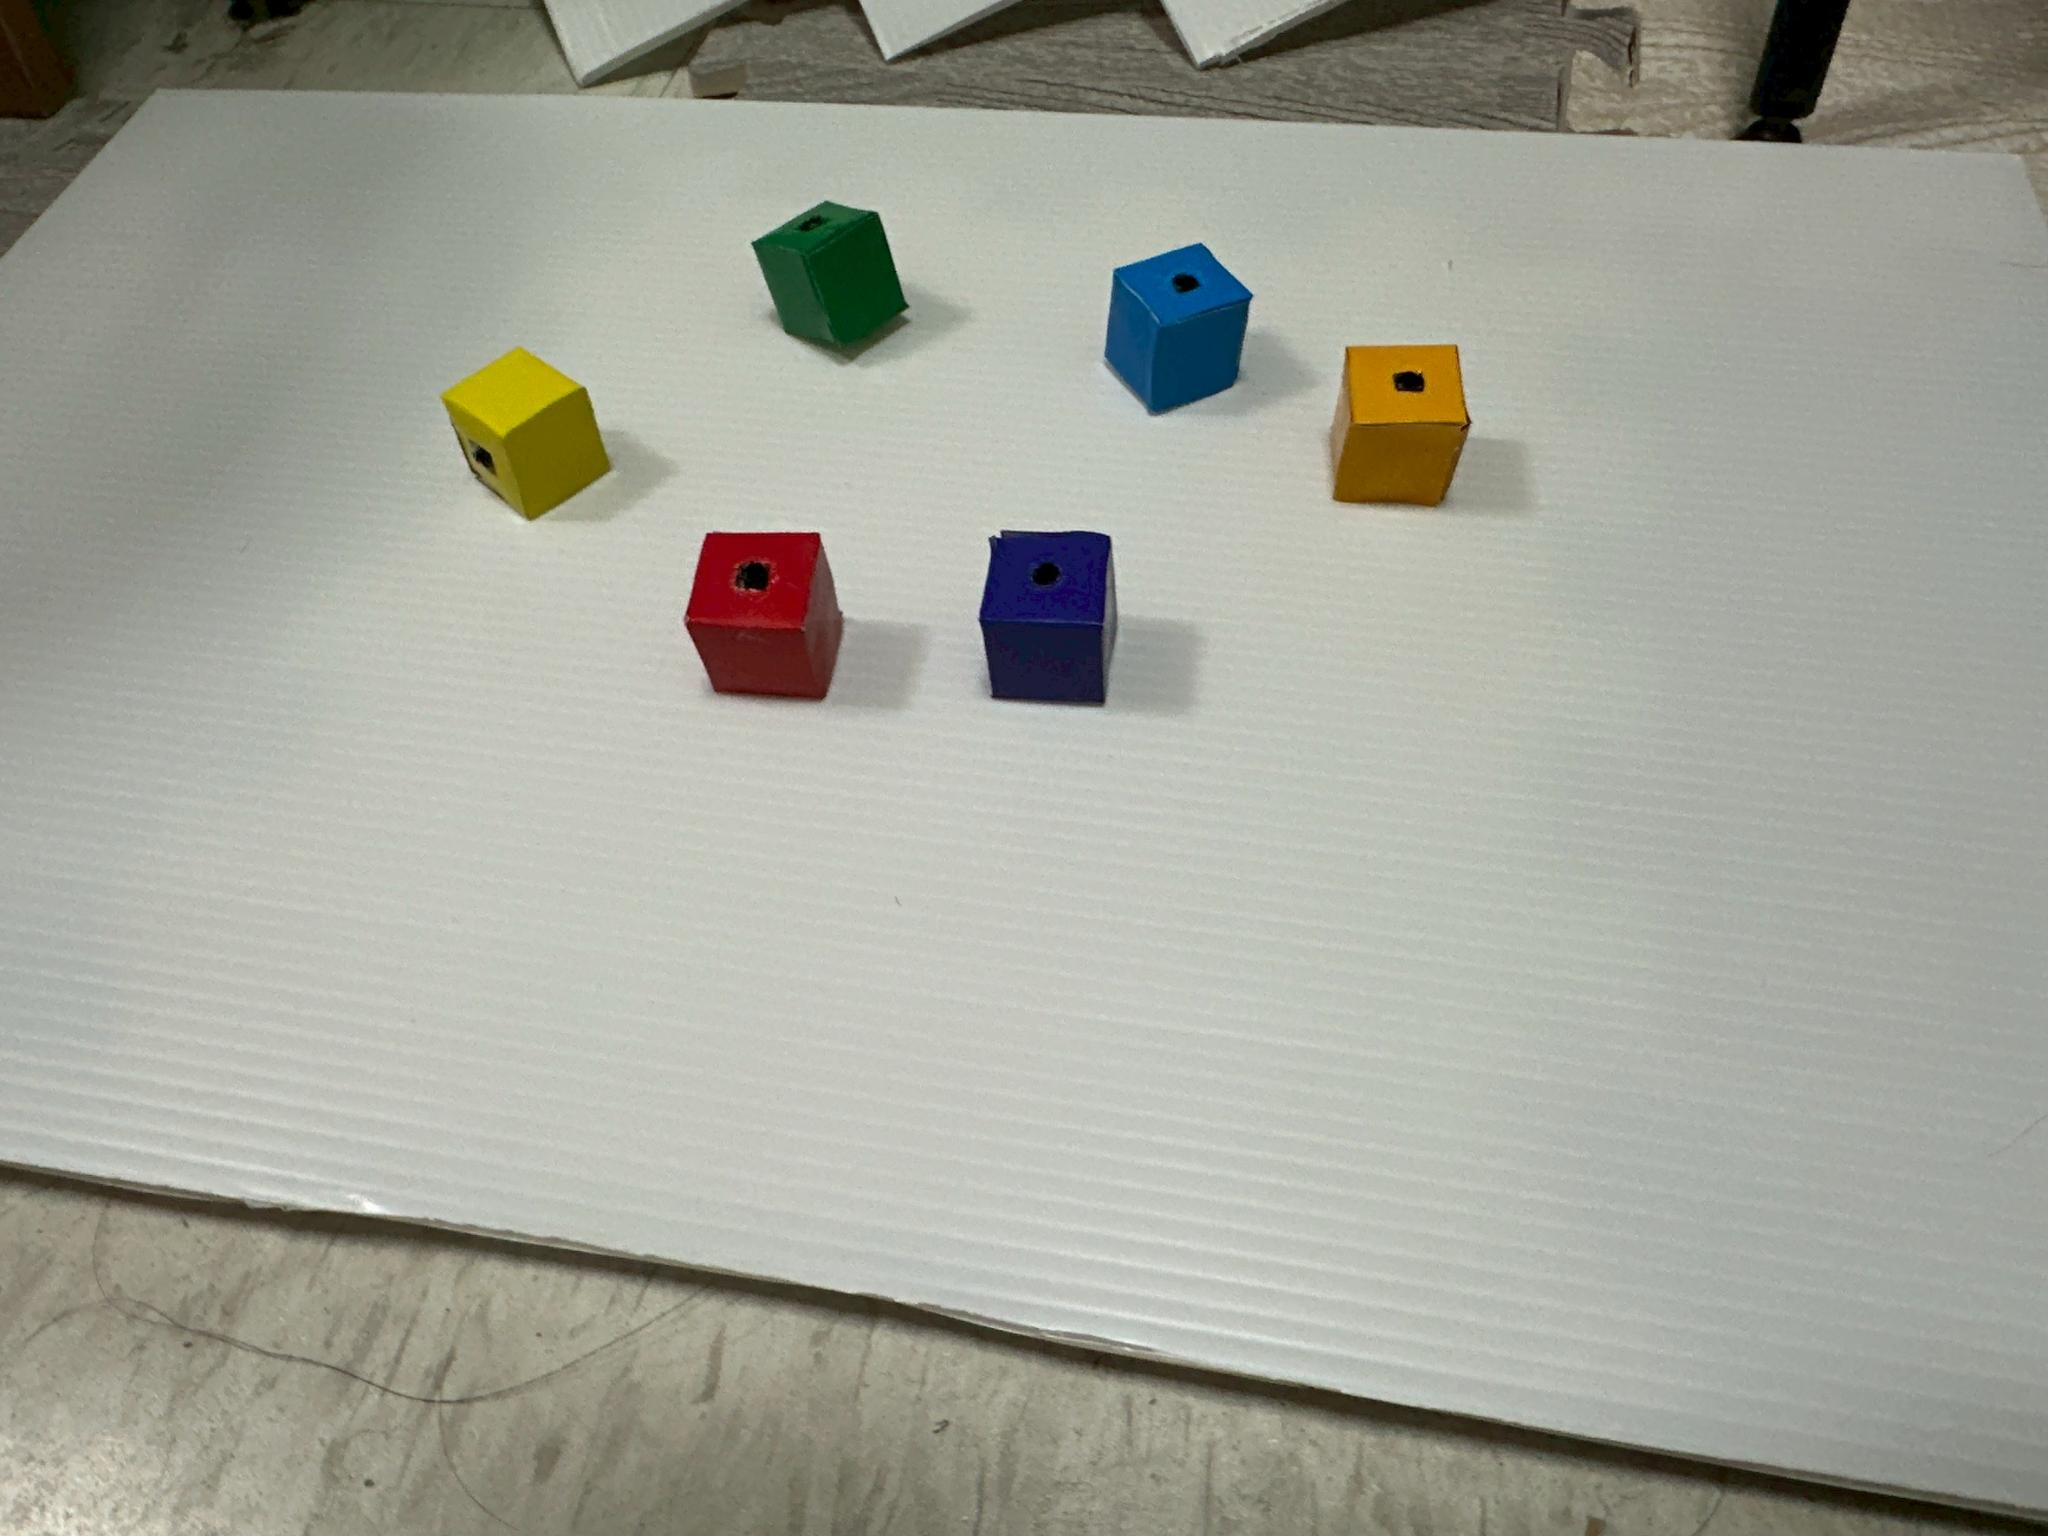base: (443, 349, 608, 520), (685, 532, 842, 699), (1105, 244, 1251, 415), (979, 531, 1116, 705), (751, 202, 906, 350), (1330, 345, 1469, 505)
